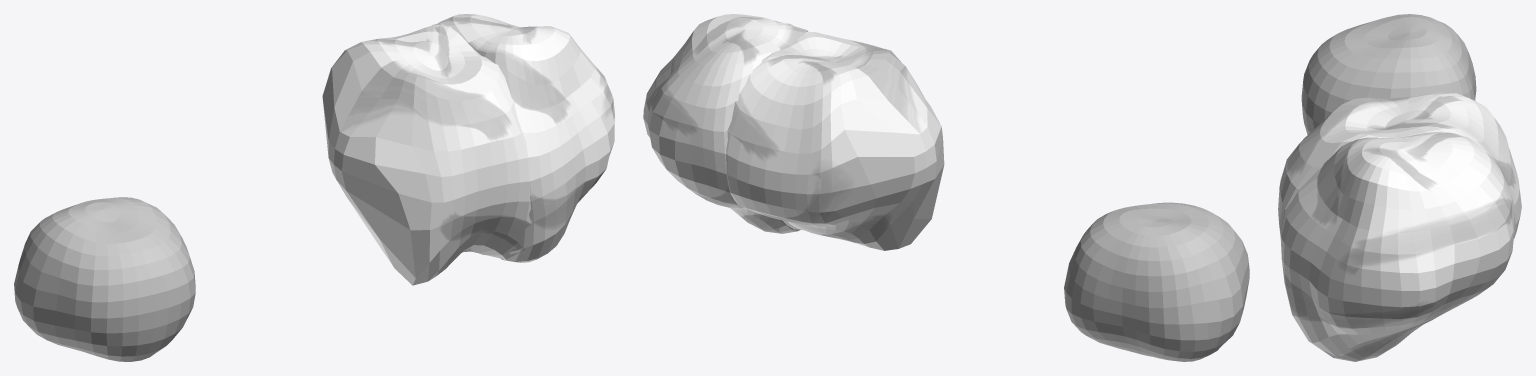
File: Nubes Base.obj
The picture shows the model from 3 angles, left to right: view 1: azimuth 30°, elevation 25°; view 2: azimuth 150°, elevation 25°; view 3: azimuth 270°, elevation 25°; orthographic projection. The views are drawn at different scales.
Parts seen in each view (by area): view 1: Nubes_Base_Esfera.002; view 2: Nubes_Base_Esfera.002; view 3: Nubes_Base_Esfera.002.
Part boxes in pixels (x1=…): Nubes_Base_Esfera.002: x1=14, y1=14, x2=614, y2=361; Nubes_Base_Esfera.002: x1=643, y1=14, x2=1249, y2=361; Nubes_Base_Esfera.002: x1=1278, y1=14, x2=1521, y2=361.
Size of the model in its own units: 8.51 by 3.06 by 3.01.
Materials: 2 (1 with a texture image).
